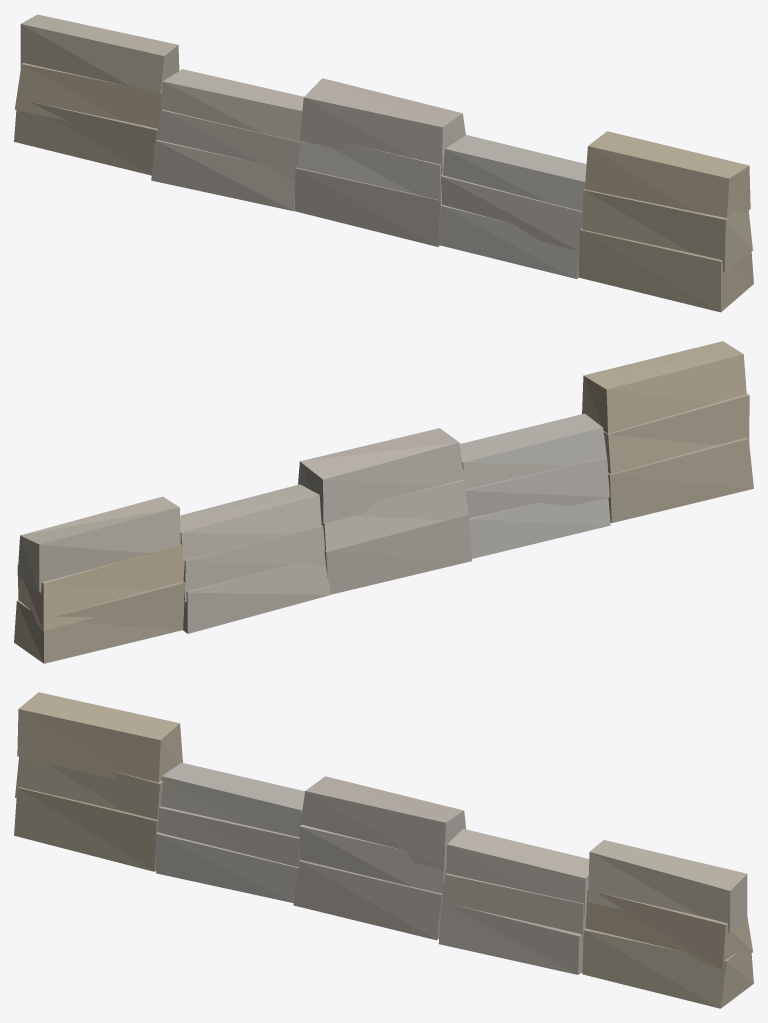
File: farm_10_17_mid.glb
3 renders of one model, top to bottom at view 1: azimuth 90°, elevation 25°; view 2: azimuth 150°, elevation 25°; view 3: azimuth 270°, elevation 25°, orthographic.
Visible parts, largest first — view 1: geometry_0; view 2: geometry_0; view 3: geometry_0.
Part boxes in pixels (bbox=[...]): geometry_0: bbox=[14, 14, 753, 312]; geometry_0: bbox=[14, 341, 753, 663]; geometry_0: bbox=[14, 692, 753, 1008].
Size of the model in its own units: 4.47 by 1.41 by 7.22.
